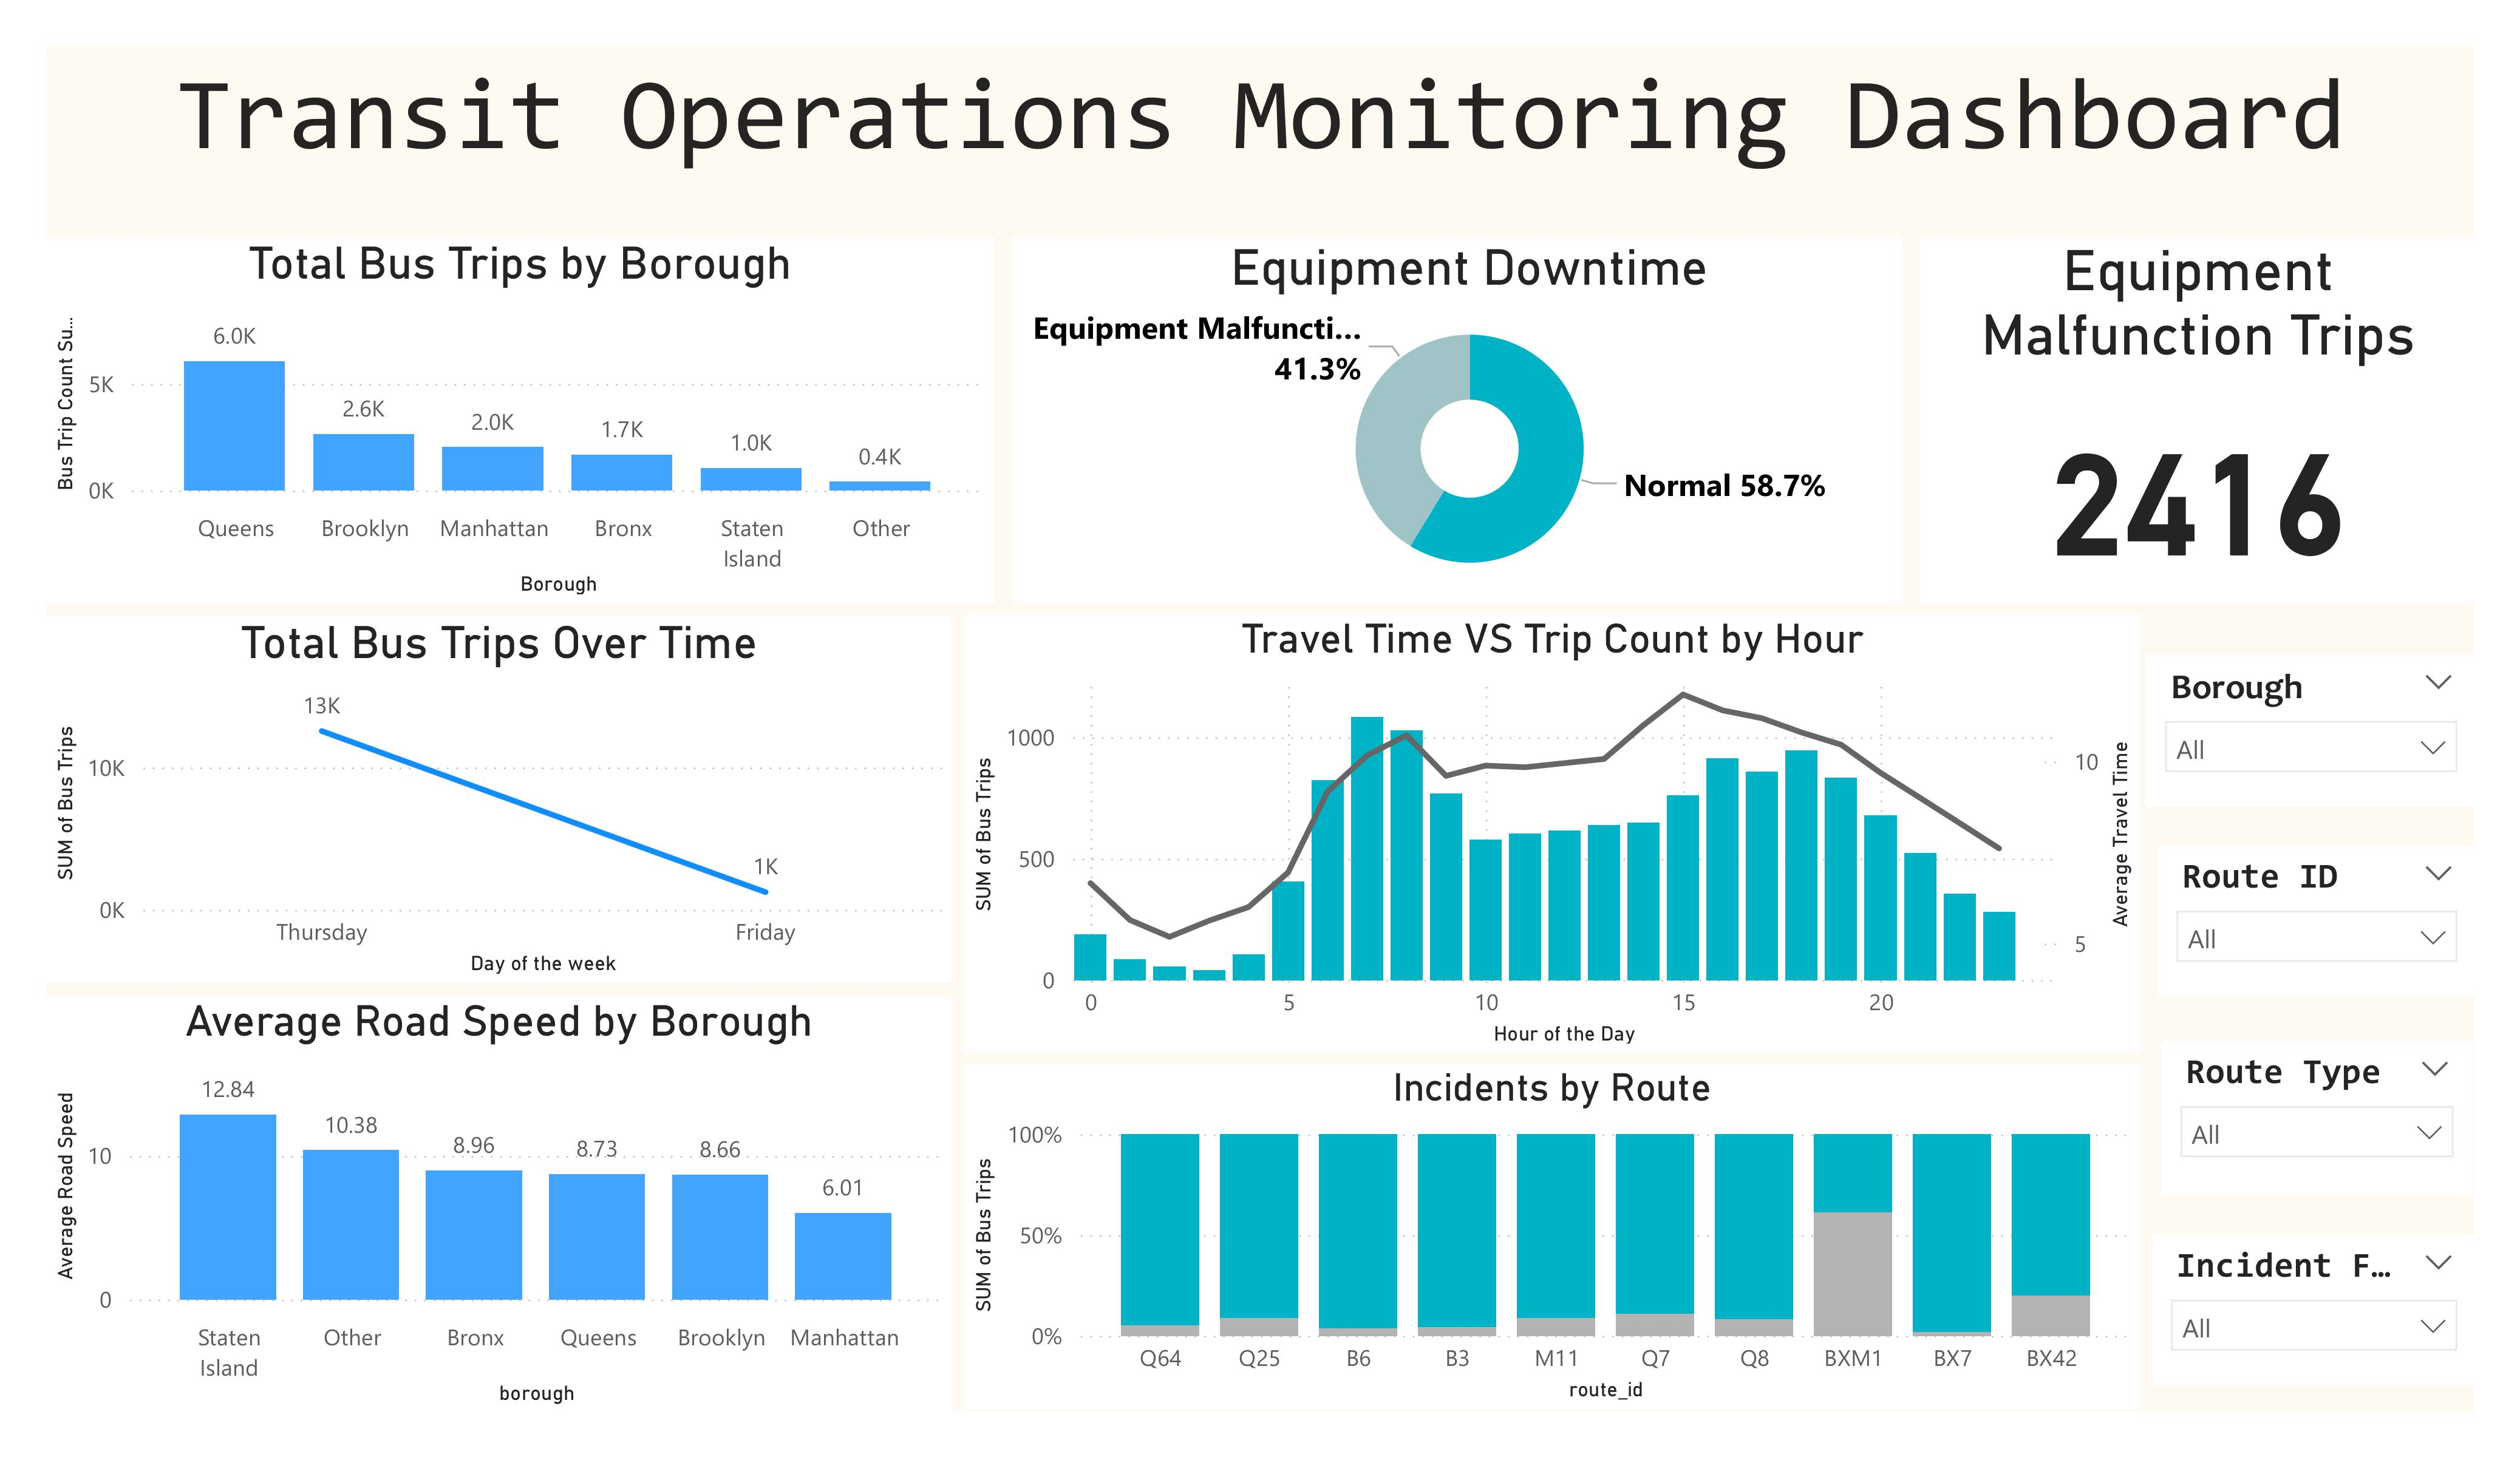

The dashboard page shown, as its layout file describes it:
{"tool":"powerbi","page":{"name":"Page 1","canvas":[1280,720],"ordinal":0},"visuals":[{"type":"lineChart","title":"Total Bus Trips Over Time","fields":{"Y":["Sum(MTA_cleaned.bus_trip_count)"],"Category":["MTA_cleaned.day_of_week"]},"box":[0,301.5,477.6,192.5],"z":0},{"type":"clusteredColumnChart","title":"Total Bus Trips by Borough","fields":{"Category":["MTA_cleaned.borough"],"Y":["Sum(MTA_cleaned.bus_trip_count)"]},"box":[0,101.5,500,192.5],"z":1000},{"type":"donutChart","title":"Equipment Downtime","fields":{"Category":["MTA_cleaned.IncidentFlag"],"Y":["CountNonNull(MTA_cleaned.IncidentFlag)"]},"box":[510.4,101.5,467.2,192.5],"z":2000},{"type":"slicer","fields":{"Values":["MTA_cleaned.borough"]},"box":[1107.5,320.9,173.1,80.6],"z":3000},{"type":"slicer","fields":{"Values":["MTA_cleaned.route_id"]},"box":[1113.4,422.4,167.2,79.1],"z":4000},{"type":"slicer","fields":{"Values":["MTA_cleaned.route_type"]},"box":[1114.9,525.4,164.2,80.6],"z":5000},{"type":"textbox","box":[0,0,1280.6,82.1],"z":6000},{"type":"clusteredColumnChart","title":"Average Road Speed by Borough","fields":{"Category":["MTA_cleaned.borough"],"Y":["Avg(MTA_cleaned.average_road_speed)"]},"box":[0,501.5,477.6,219.4],"z":7000},{"type":"lineClusteredColumnComboChart","title":"Travel Time VS Trip Count by Hour","fields":{"Category":["MTA_cleaned.hour_of_day"],"Y":["Sum(MTA_cleaned.bus_trip_count)"],"Y2":["Avg(MTA_cleaned.average_travel_time)"]},"box":[483.6,300,620.9,231.3],"z":8000},{"type":"slicer","fields":{"Values":["MTA_cleaned.IncidentFlag"]},"box":[1110.4,626.9,170.1,79.1],"z":9000},{"type":"card","title":"Equipment Malfunction Trips","fields":{"Values":["Sum(MTA_cleaned.bus_trip_count)"]},"box":[988.1,101.5,292.5,192.5],"z":10000},{"type":"hundredPercentStackedColumnChart","title":"Incidents by Route","fields":{"Category":["MTA_cleaned.route_id"],"Series":["MTA_cleaned.IncidentFlag"],"Y":["Sum(MTA_cleaned.bus_trip_count)"]},"box":[483.6,537.3,620.9,182.1],"z":11000}]}

Visuals, with their boxes in screenshot pixels (x1, y1, x2, y2):
"Total Bus Trips Over Time" lineChart: x1=46 y1=617 x2=952 y2=983
"Total Bus Trips by Borough" clusteredColumnChart: x1=46 y1=238 x2=995 y2=603
"Equipment Downtime" donutChart: x1=1014 y1=238 x2=1901 y2=603
slicer - MTA_cleaned.borough: x1=2147 y1=654 x2=2474 y2=807
slicer - MTA_cleaned.route_id: x1=2158 y1=847 x2=2474 y2=997
slicer - MTA_cleaned.route_type: x1=2161 y1=1042 x2=2473 y2=1195
textbox: x1=46 y1=46 x2=2474 y2=202
"Average Road Speed by Borough" clusteredColumnChart: x1=46 y1=997 x2=952 y2=1411
"Travel Time VS Trip Count by Hour" lineClusteredColumnComboChart: x1=963 y1=614 x2=2142 y2=1053
slicer - MTA_cleaned.IncidentFlag: x1=2153 y1=1235 x2=2474 y2=1385
"Equipment Malfunction Trips" card: x1=1921 y1=238 x2=2474 y2=603
"Incidents by Route" hundredPercentStackedColumnChart: x1=963 y1=1065 x2=2142 y2=1410
